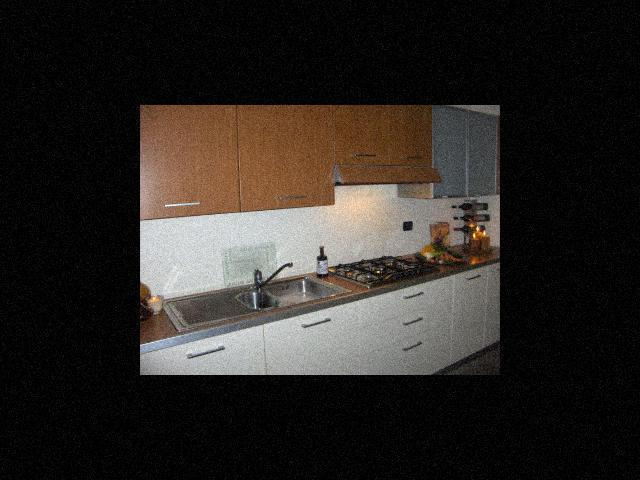Electrodomestico: (339, 253, 447, 298)
Lavaplatos: (248, 264, 351, 312)
